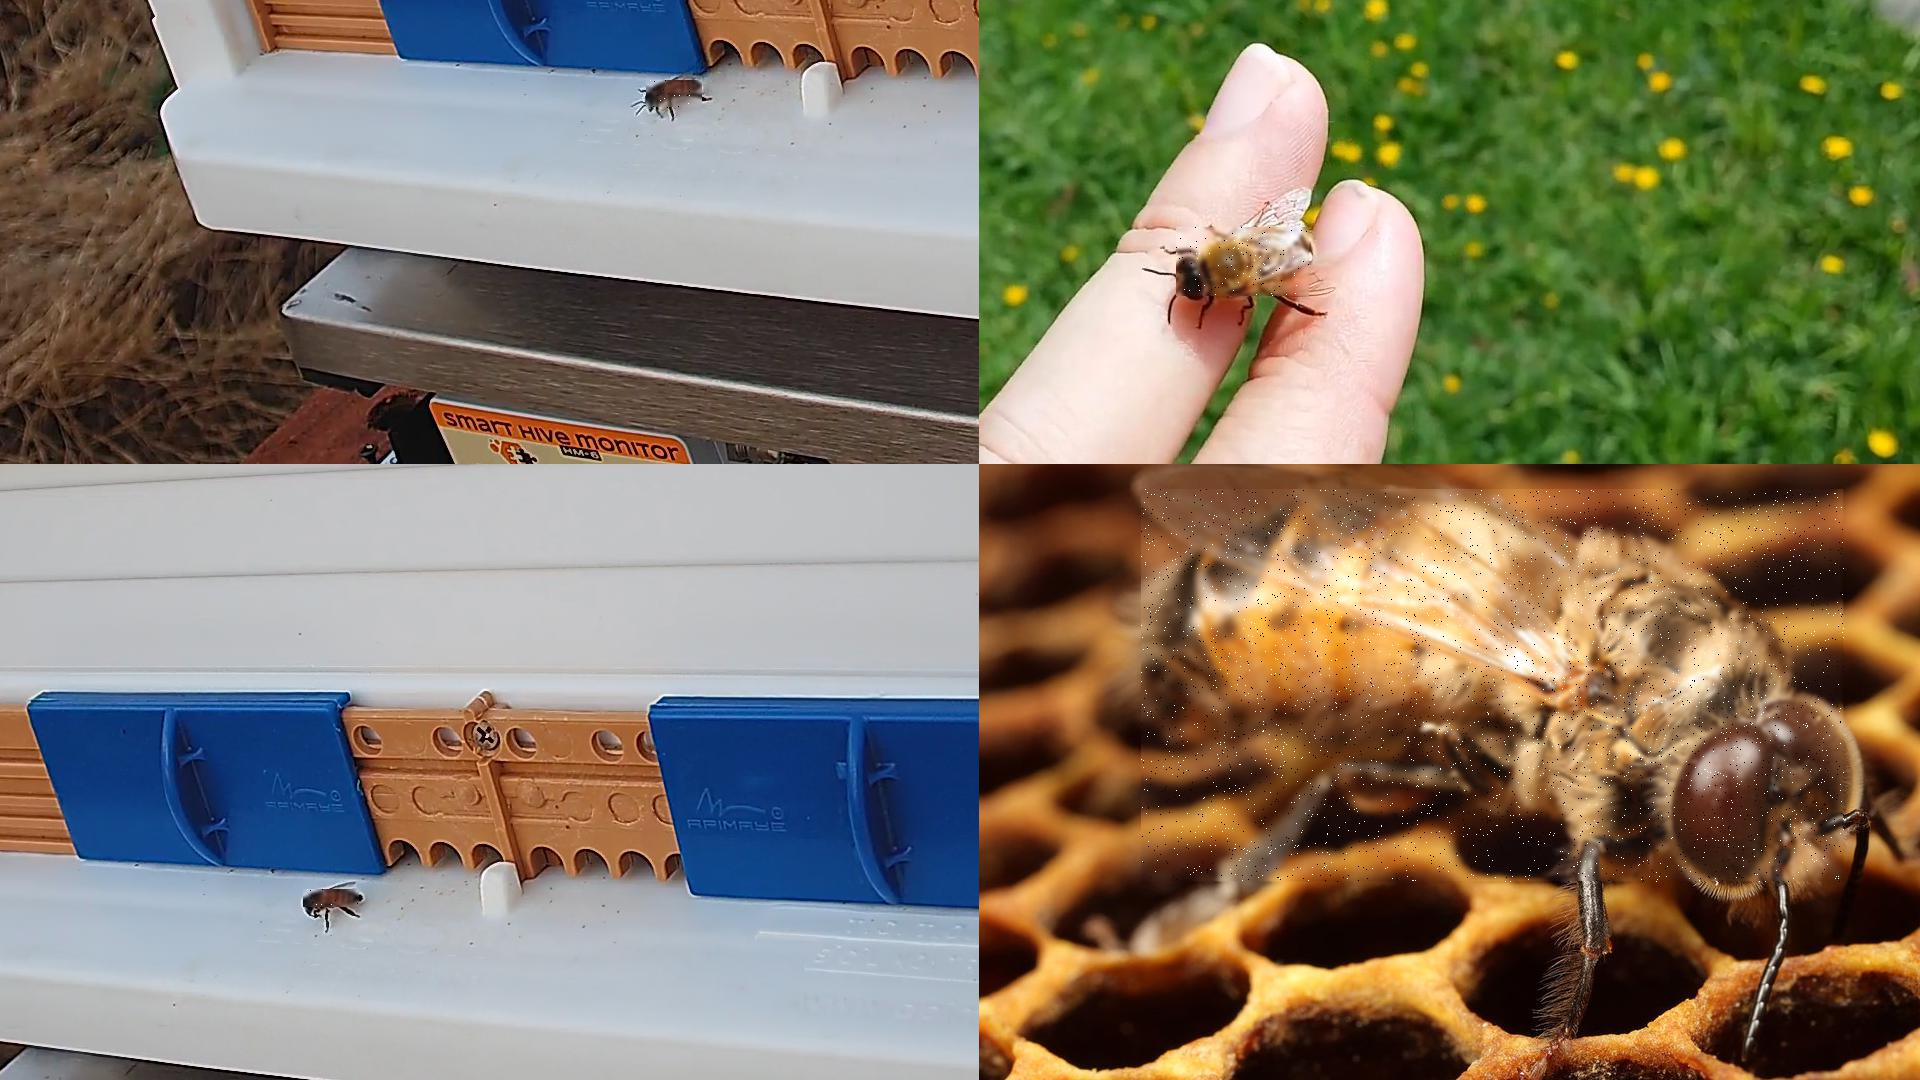bee: (646, 80, 703, 109), (305, 889, 361, 909)
drone: (1142, 491, 1846, 884), (1176, 227, 1312, 297)
